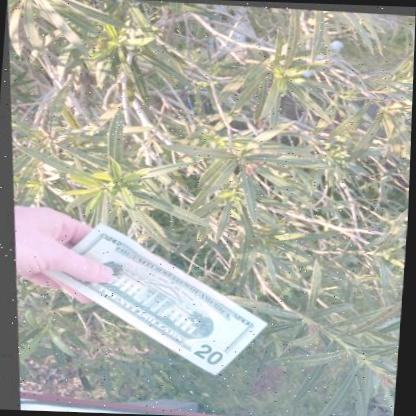twenty-back: (39, 221, 264, 375)
